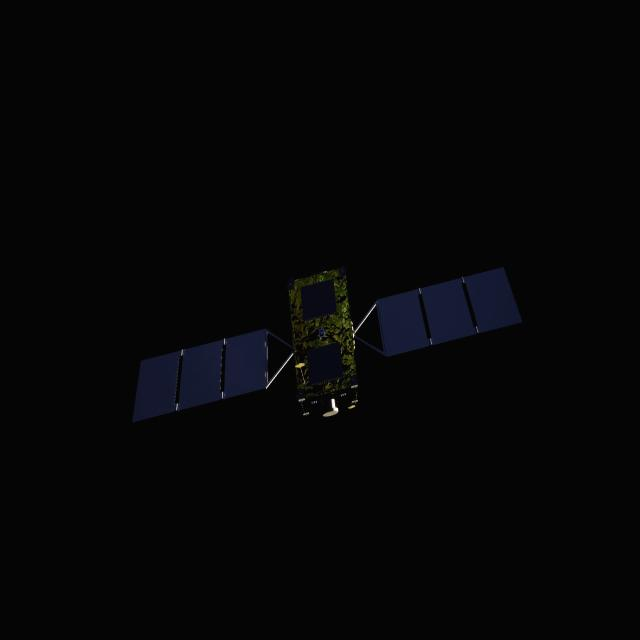satellite: (133, 267, 522, 422)
